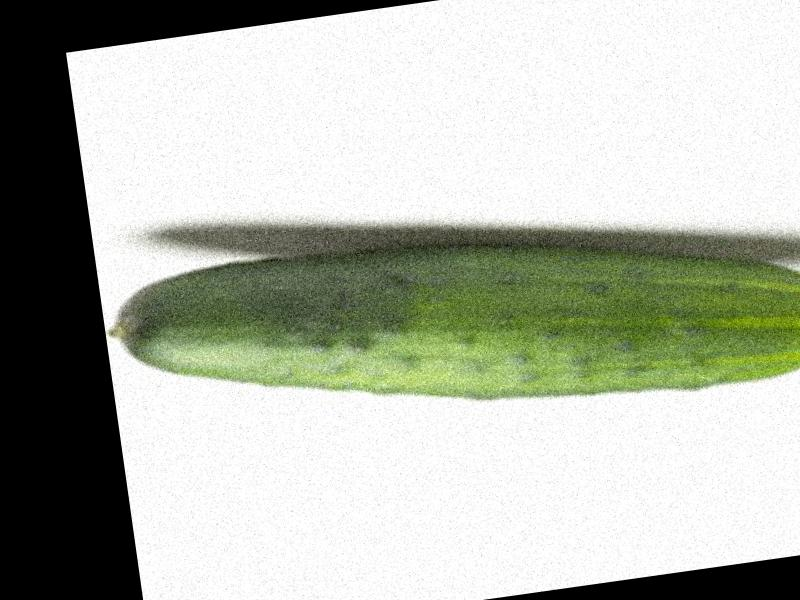Cucumber: (100, 173, 800, 470)
